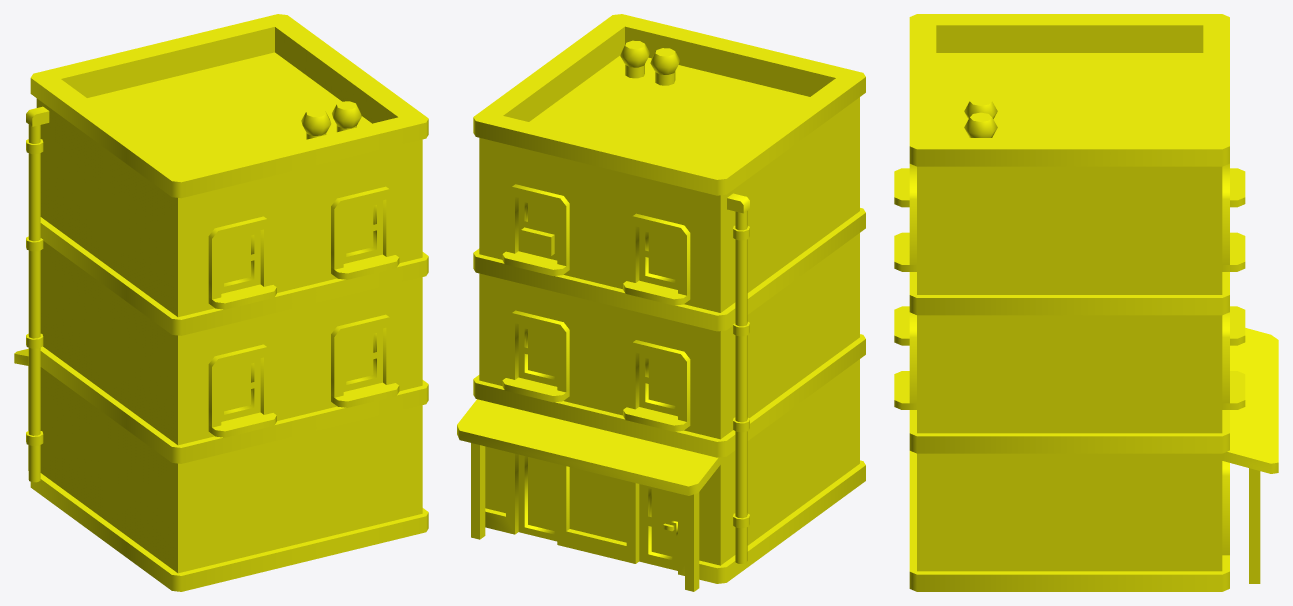
Rendered from civic-1.glb.
3 views of the same model, side by side, from view 1: azimuth 30°, elevation 25°; view 2: azimuth 150°, elevation 25°; view 3: azimuth 270°, elevation 25° (orthographic). The views are drawn at different scales.
Visible parts, largest first — view 1: building-h; view 2: building-h; view 3: building-h.
Part boxes in pixels (left/top/right/bottom): building-h: left=14, top=14, right=428, bottom=591; building-h: left=457, top=14, right=865, bottom=591; building-h: left=894, top=14, right=1278, bottom=591.
Size of the model in its own units: 0.8836 by 1.29 by 1.01.
Materials: 1 (1 with a texture image).
